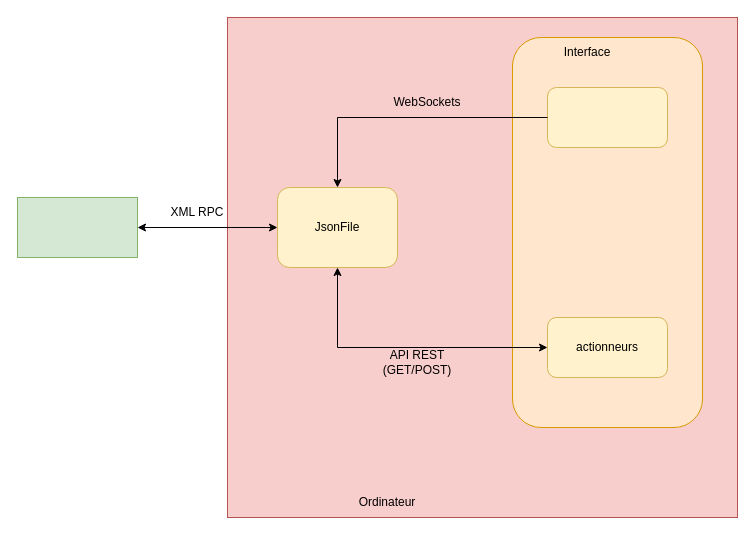
The diagram is 755 pixels wide and 535 high, and some of its shapes have lost their labels. The shapes that lost their labels are listed below. From the top down, each one's box as (x1, y1, x2, y2) in pixels, then its label:
(546, 86, 668, 148): observeurs
(16, 196, 138, 258): UR5E
